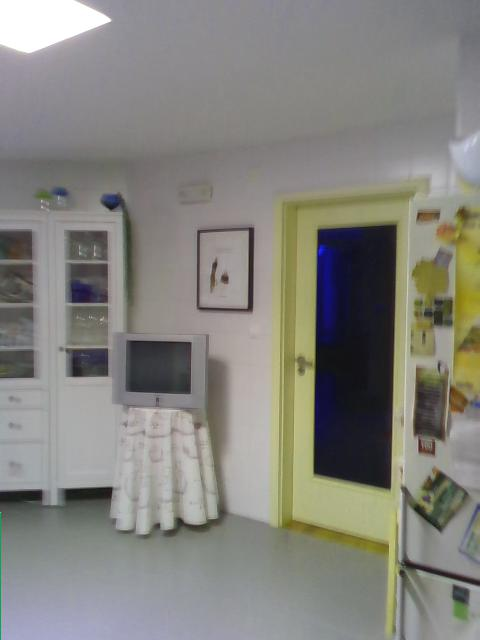closed_door: (272, 180, 418, 546)
